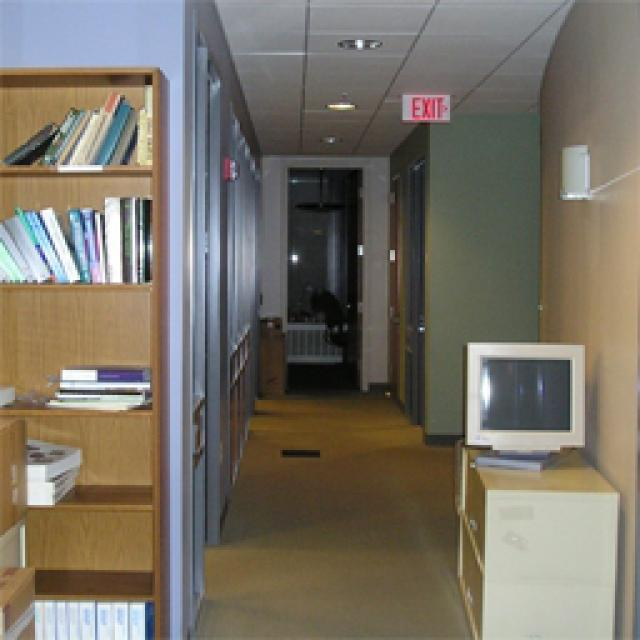book ends: (2, 68, 170, 638)
books crop: (2, 198, 150, 282), (2, 85, 152, 165), (45, 365, 150, 410), (32, 600, 155, 632), (25, 435, 80, 505)
boxes: (2, 415, 32, 635)
ceiling beam: (212, 0, 575, 158)
computer screen: (468, 345, 580, 468)
door handle: (188, 30, 220, 618), (282, 168, 360, 390), (402, 155, 428, 425)
exit sign: (402, 92, 448, 120)
filing cabinet: (452, 450, 620, 638)
fire alarm: (218, 155, 238, 178)
floor -X: (192, 388, 470, 638), (282, 360, 355, 388)
light fixture: (560, 142, 592, 200), (332, 35, 382, 50), (325, 98, 355, 110), (320, 132, 342, 142)
wall clock: (2, 0, 180, 638), (538, 0, 638, 638), (182, 0, 260, 638), (428, 115, 538, 445), (260, 158, 388, 395), (385, 122, 430, 442)
